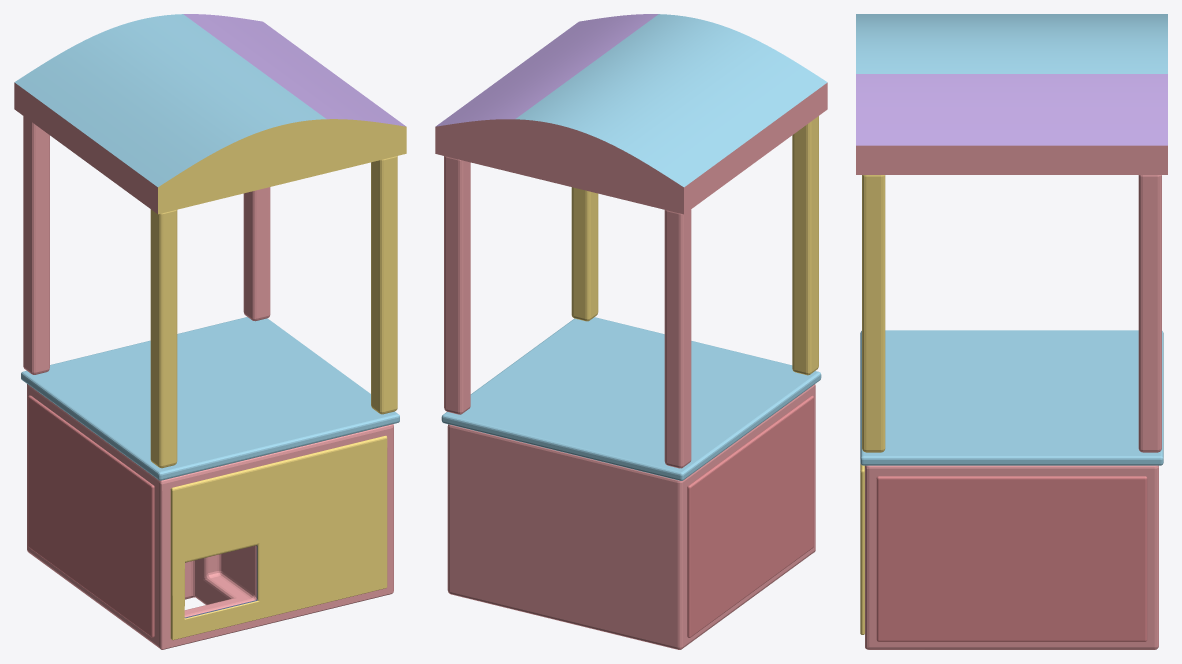
Rendered from cabinet.glb.
The picture shows the model from 3 angles, left to right: view 1: azimuth 30°, elevation 25°; view 2: azimuth 150°, elevation 25°; view 3: azimuth 270°, elevation 25°; orthographic projection. The views are drawn at different scales.
Visible parts, largest first — view 1: 屋頂, 頂板, 前面板, 左側面板, 機台主體, 柱子1, 柱子2, 柱子3, 柱子4; view 2: 屋頂, 機台主體, 頂板, 左側面板, 柱子3, 柱子4, 柱子1, 柱子2; view 3: 屋頂, 右側面板, 頂板, 機台主體, 柱子2, 柱子4, 前面板.
Part boxes in pixels (x1,y1,x2,y2): 屋頂: [14, 14, 406, 214]; 頂板: [21, 317, 399, 480]; 前面板: [170, 435, 387, 640]; 左側面板: [28, 395, 154, 637]; 機台主體: [27, 384, 393, 649]; 柱子1: [150, 209, 177, 468]; 柱子2: [371, 156, 397, 414]; 柱子3: [23, 116, 49, 374]; 柱子4: [243, 187, 270, 321]; 屋頂: [435, 14, 827, 214]; 機台主體: [447, 384, 815, 649]; 頂板: [441, 317, 821, 480]; 左側面板: [687, 395, 813, 637]; 柱子3: [664, 209, 691, 468]; 柱子4: [444, 156, 470, 414]; 柱子1: [792, 116, 818, 375]; 柱子2: [571, 187, 598, 321]; 屋頂: [856, 14, 1167, 174]; 右側面板: [876, 476, 1147, 641]; 頂板: [860, 330, 1163, 465]; 機台主體: [865, 465, 1158, 649]; 柱子2: [862, 175, 885, 452]; 柱子4: [1138, 175, 1161, 452]; 前面板: [860, 463, 864, 634].
Bounding box in the file's own units: 2.12 × 4.08 × 2.12.
